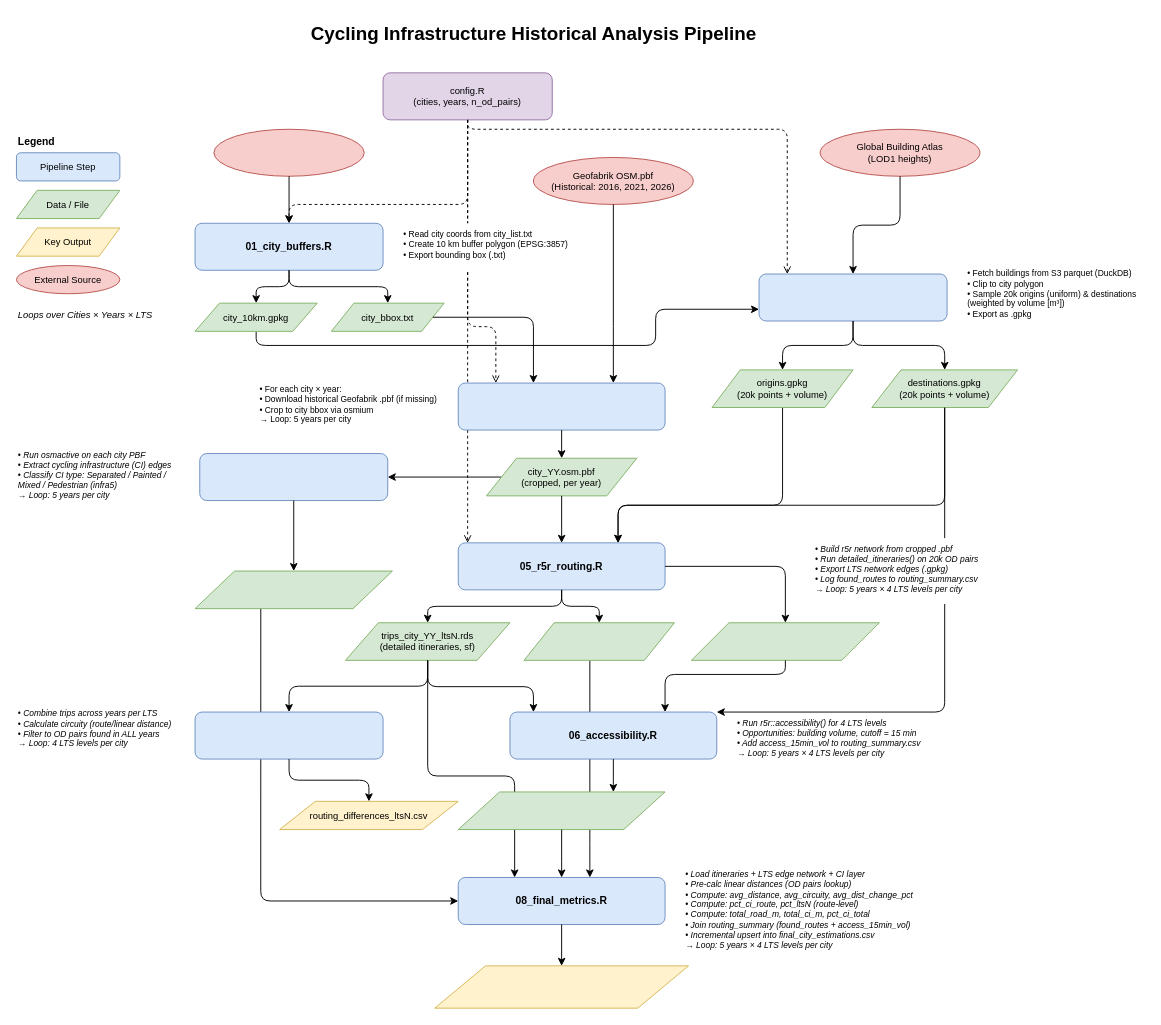
The diagram is 1161 pixels wide and 1025 high, and some of its shapes have lost their labels. Here are the shapes that lost their labels. From the top down, the centre of each, then its label:
the point at 288,152: city_list.txt (city, lat, lon, population)
the point at 852,297: 02_od_data.R
the point at 561,406: 03_historical_osm.R
the point at 293,477: 04_ci_osmactive.R
the point at 293,589: city_ci_osmactive_YYMMDD.gpkg (CI edges + infra5 type)
the point at 598,641: city_YY_lts.gpkg (LTS edge network)
the point at 784,641: routing_summary.csv (city, year, lts, found_routes)
the point at 288,735: 07_analysis.R
the point at 561,810: routing_summary.csv (updated) + access_15min_vol per city/year/lts
the point at 561,986: final_city_estimations.csv (per city)
